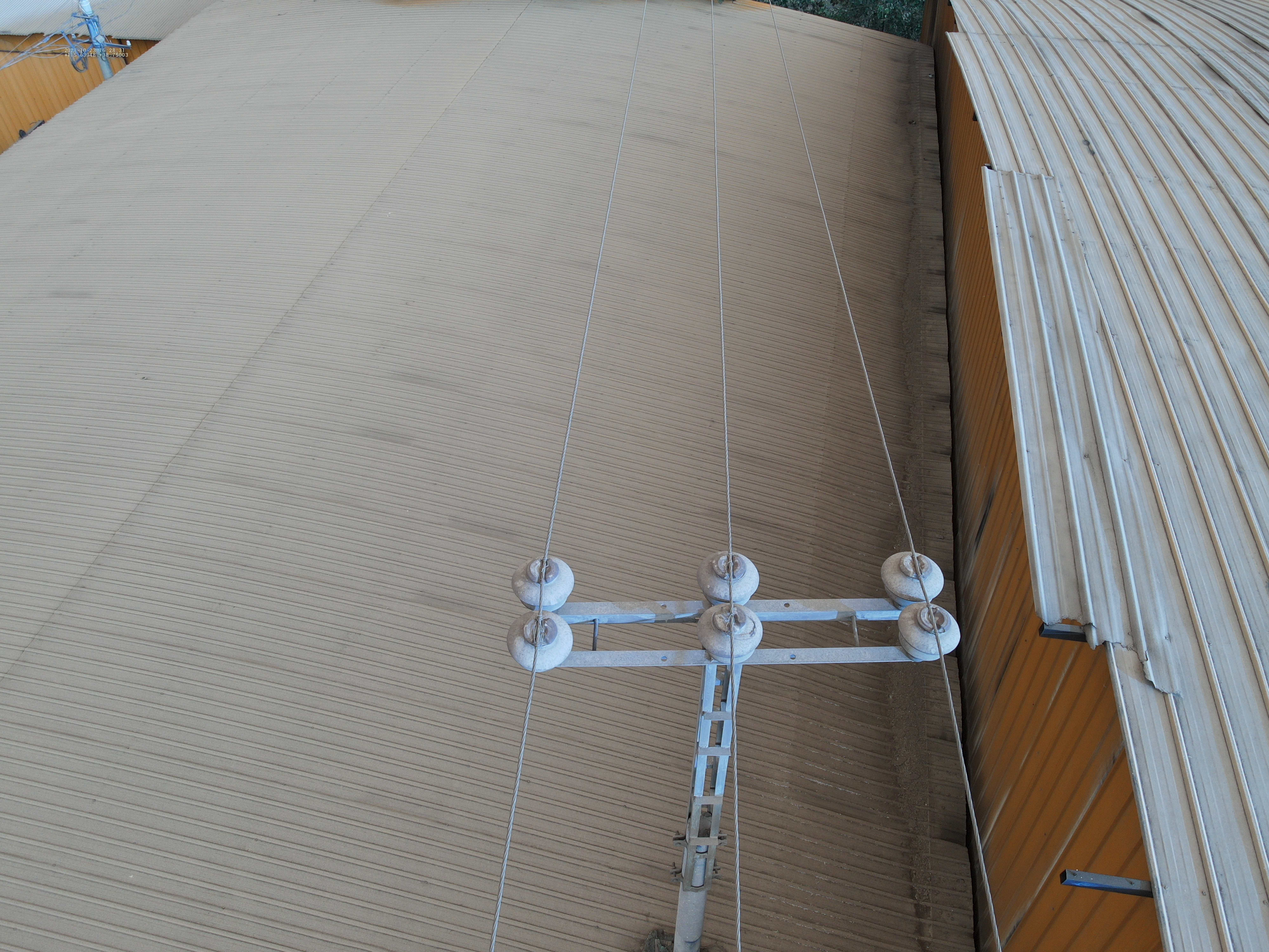severe_soiling_no_discharge_whole: (893, 598, 965, 665), (695, 600, 766, 665), (507, 612, 574, 672), (880, 549, 949, 607), (510, 552, 576, 612), (698, 550, 758, 605)
